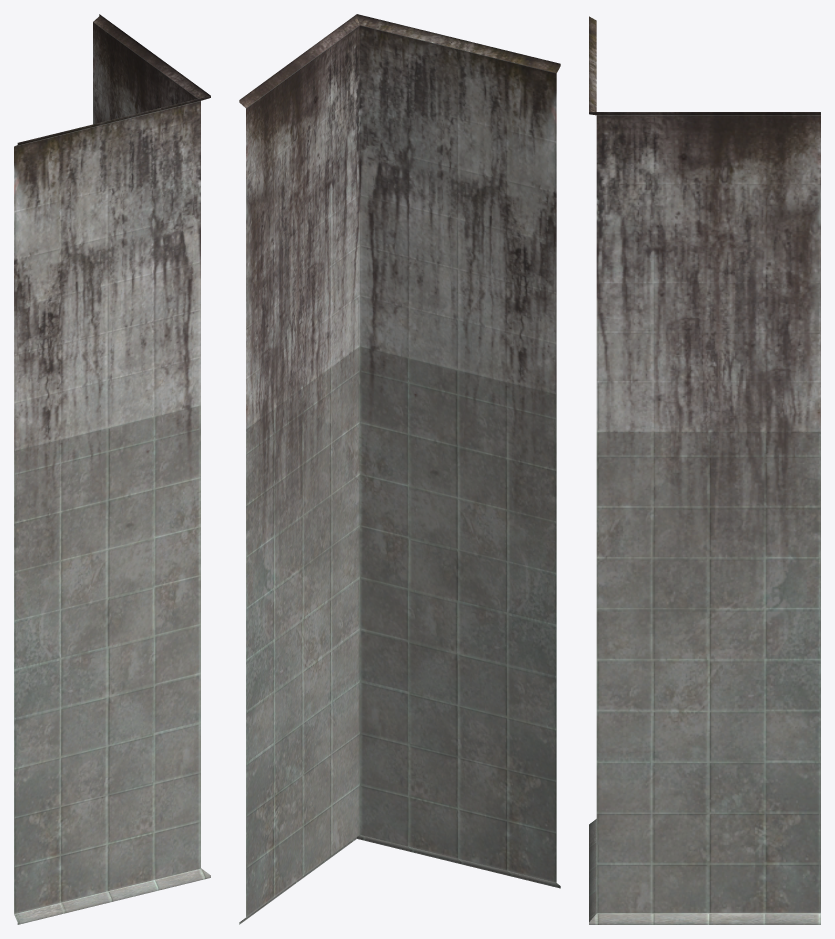
Rendered from bathroom_damaged_convex_short.dae.
3 renders of one model, left to right at view 1: azimuth 30°, elevation 25°; view 2: azimuth 150°, elevation 25°; view 3: azimuth 270°, elevation 25°, orthographic. The views are drawn at different scales.
Visible parts, largest first — view 1: polySurface12; view 2: polySurface12; view 3: polySurface12.
Boxes of the visible parts, bbox=[...] form: polySurface12: bbox=[14, 14, 210, 924]; polySurface12: bbox=[239, 14, 560, 924]; polySurface12: bbox=[589, 16, 820, 924].
Size of the model in its own units: 1.03 by 4 by 1.03.
